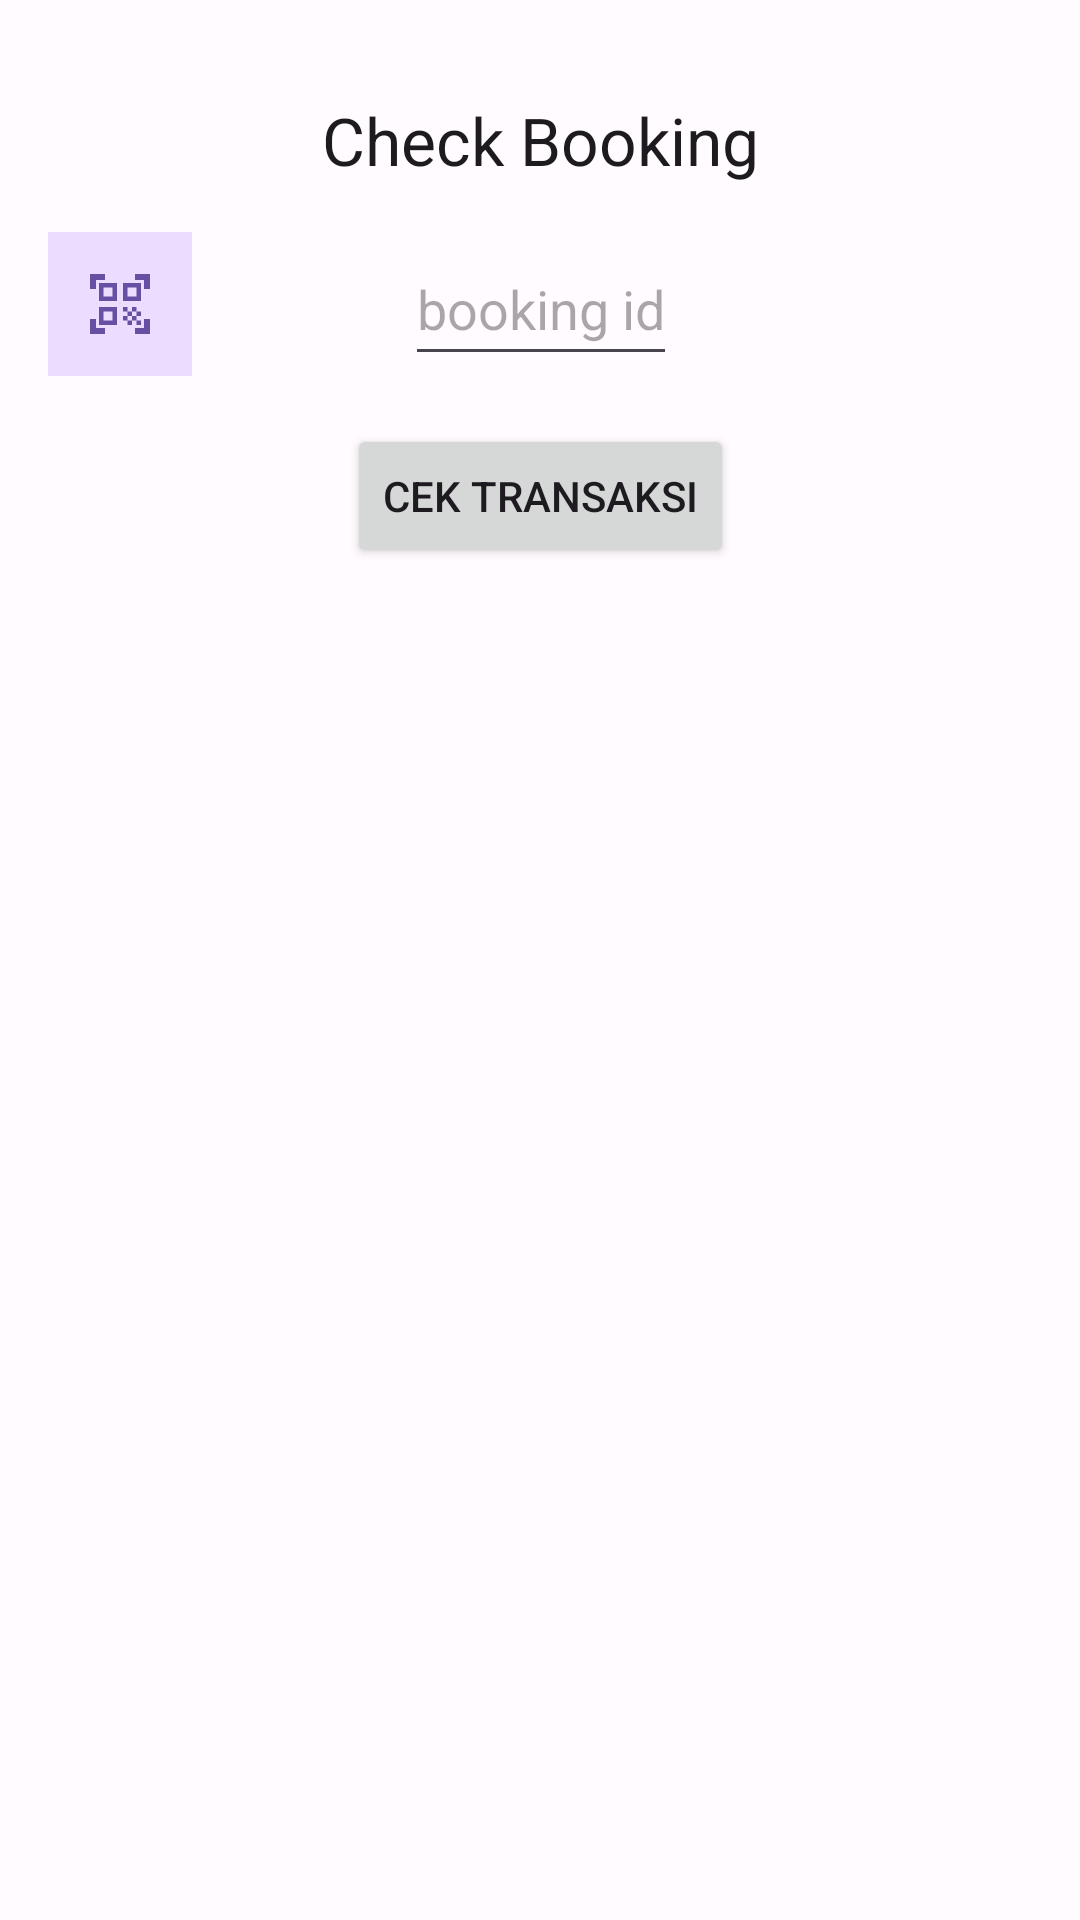

Screen size 1080px×1920px. Icon name, then its center in pixels as (x=x, y=y):
qr code scanner: (x=120, y=304)
